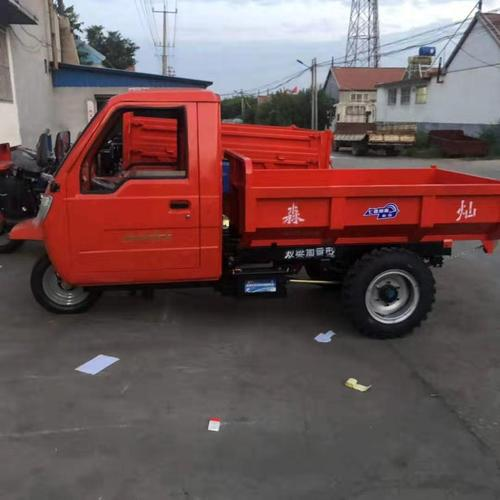empty: (21, 102, 484, 457)
